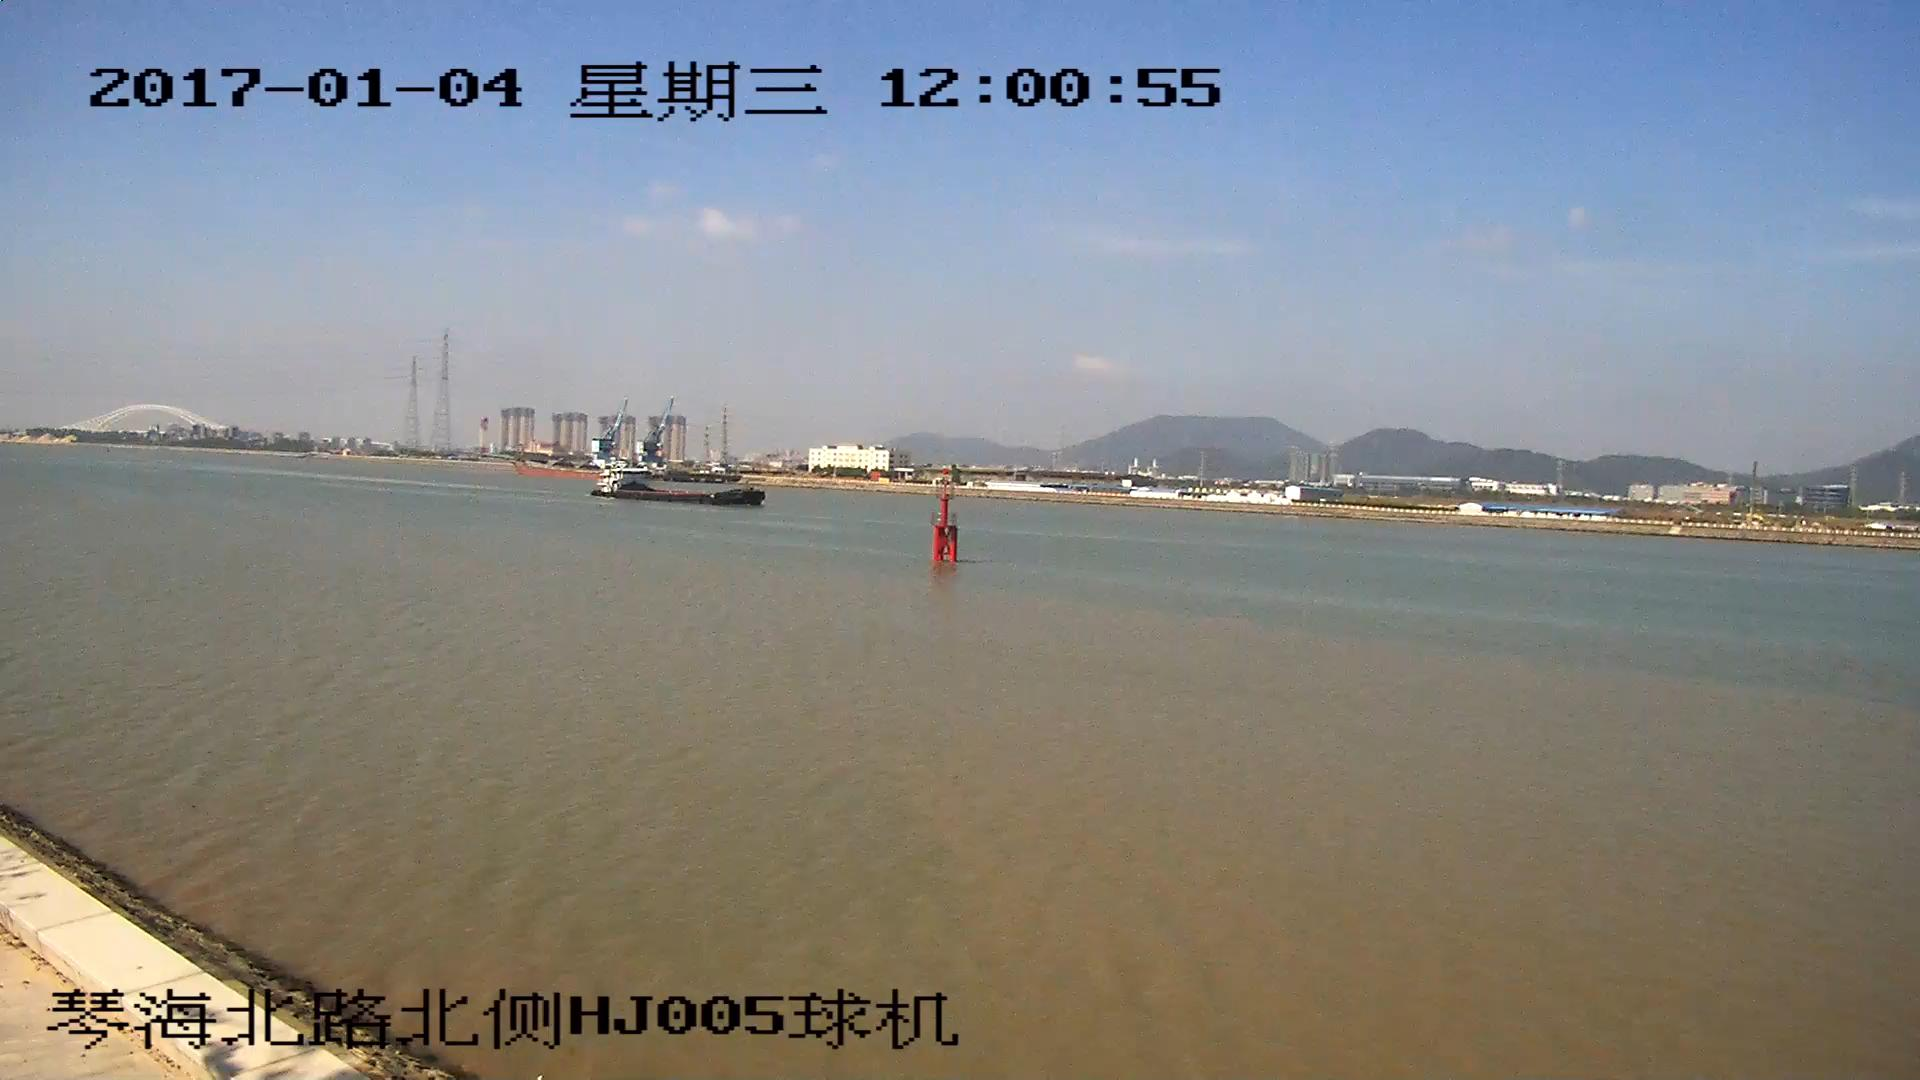general cargo ship: (588, 463, 763, 508)
